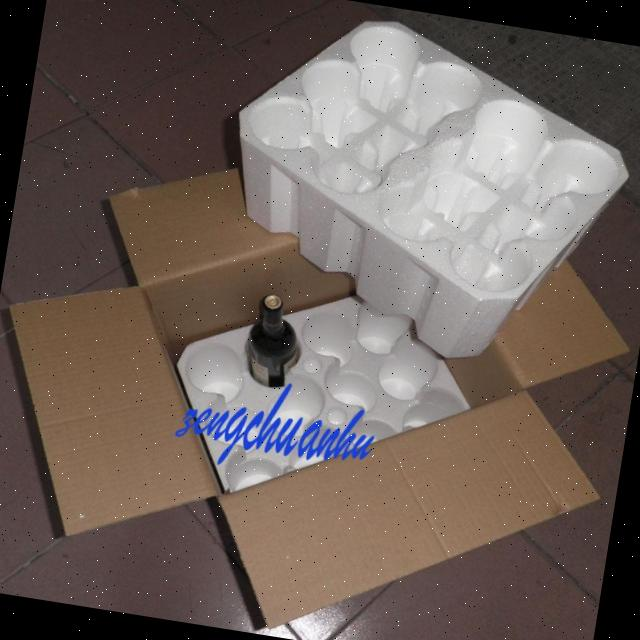styrofoam: (204, 0, 640, 381)
